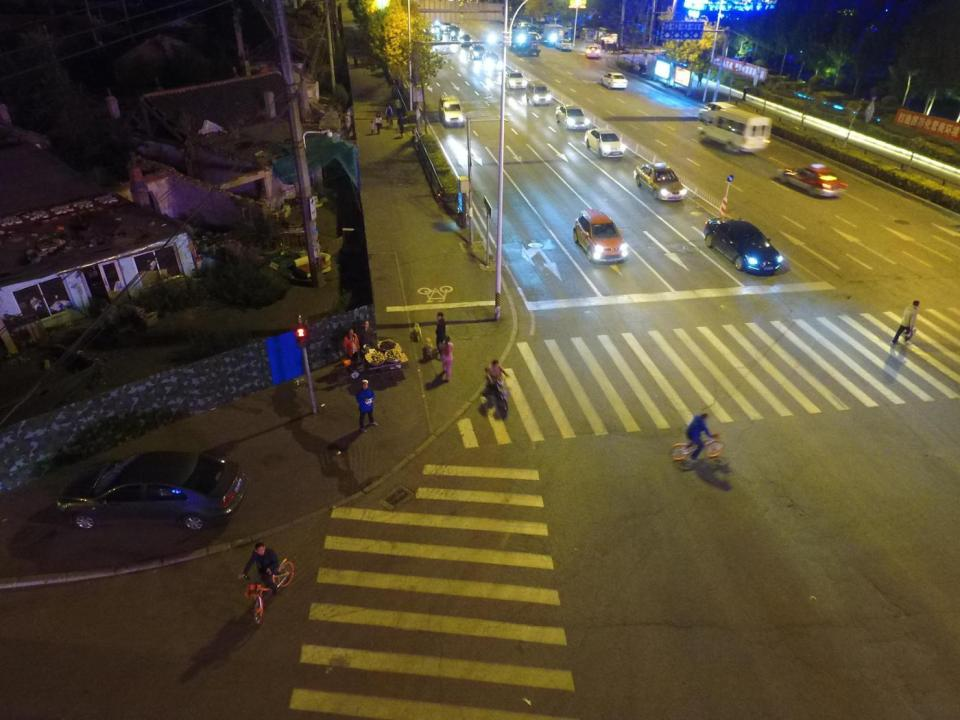car: (56, 450, 248, 533), (704, 218, 783, 274), (573, 210, 628, 265), (778, 163, 848, 199), (634, 162, 686, 202), (584, 128, 624, 159), (555, 105, 589, 131), (601, 72, 627, 90), (505, 71, 526, 89), (482, 52, 501, 71), (470, 44, 486, 60), (458, 34, 474, 47), (555, 39, 572, 51), (585, 45, 600, 58)
truck: (542, 23, 564, 46)
van: (697, 108, 771, 154), (700, 102, 737, 124), (439, 96, 463, 128), (526, 81, 551, 106), (449, 26, 460, 40), (441, 22, 453, 34)
